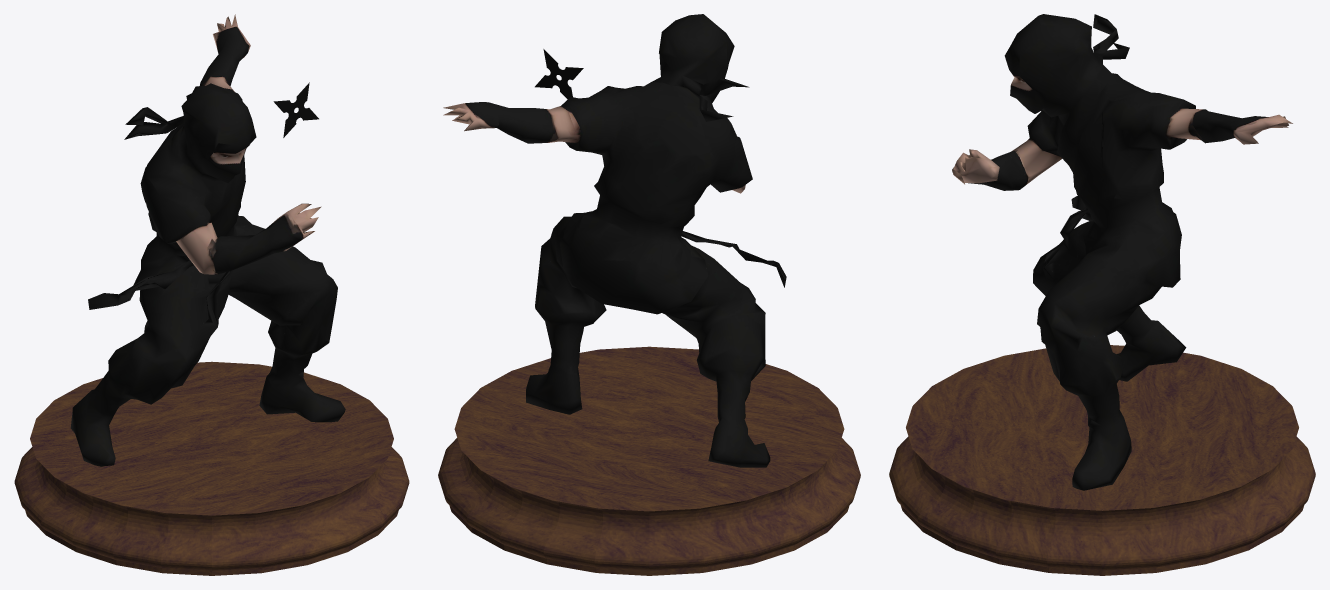
The model's file is akano.glb.
3 views of the same model, side by side, from view 1: azimuth 30°, elevation 25°; view 2: azimuth 150°, elevation 25°; view 3: azimuth 270°, elevation 25° (orthographic). The views are drawn at different scales.
Parts seen in each view (by area): view 1: BézierCurve, tripo_node_b70c81f8-88a9-482f-9f1f-3d4a9e3e9f0d, Torus; view 2: BézierCurve, tripo_node_b70c81f8-88a9-482f-9f1f-3d4a9e3e9f0d, Torus; view 3: BézierCurve, tripo_node_b70c81f8-88a9-482f-9f1f-3d4a9e3e9f0d.
Part boxes in pixels (x1,y1,x2,y2): BézierCurve: (14, 361, 409, 575); tripo_node_b70c81f8-88a9-482f-9f1f-3d4a9e3e9f0d: (70, 14, 345, 466); Torus: (273, 82, 318, 137); BézierCurve: (438, 346, 860, 575); tripo_node_b70c81f8-88a9-482f-9f1f-3d4a9e3e9f0d: (443, 14, 786, 467); Torus: (535, 49, 583, 99); BézierCurve: (889, 345, 1315, 575); tripo_node_b70c81f8-88a9-482f-9f1f-3d4a9e3e9f0d: (952, 14, 1292, 490).
Size of the model in its own units: 0.9545 by 1.14 by 0.9545.
Materials: 3 (3 with a texture image).
